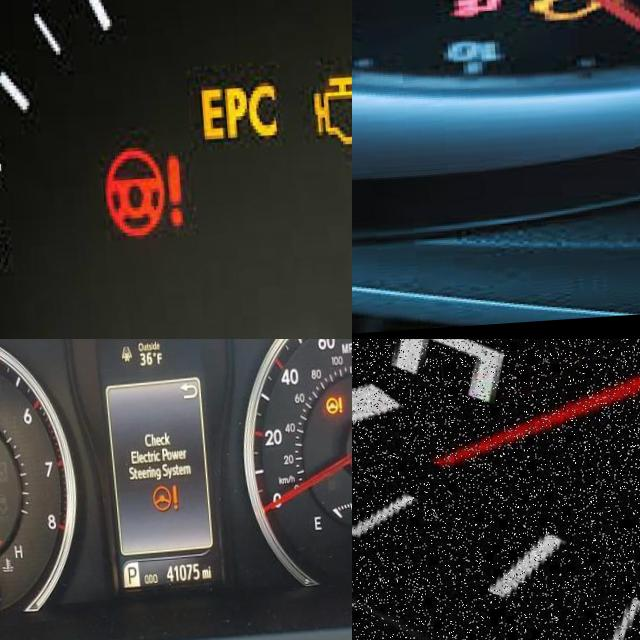Electronic Power Steering: (92, 146, 180, 245), (143, 486, 172, 517), (317, 404, 339, 423)
